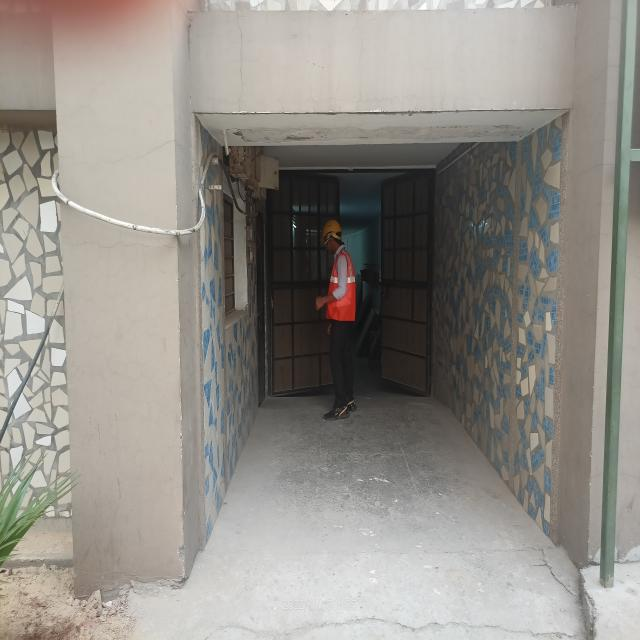safe: (314, 217, 361, 422)
